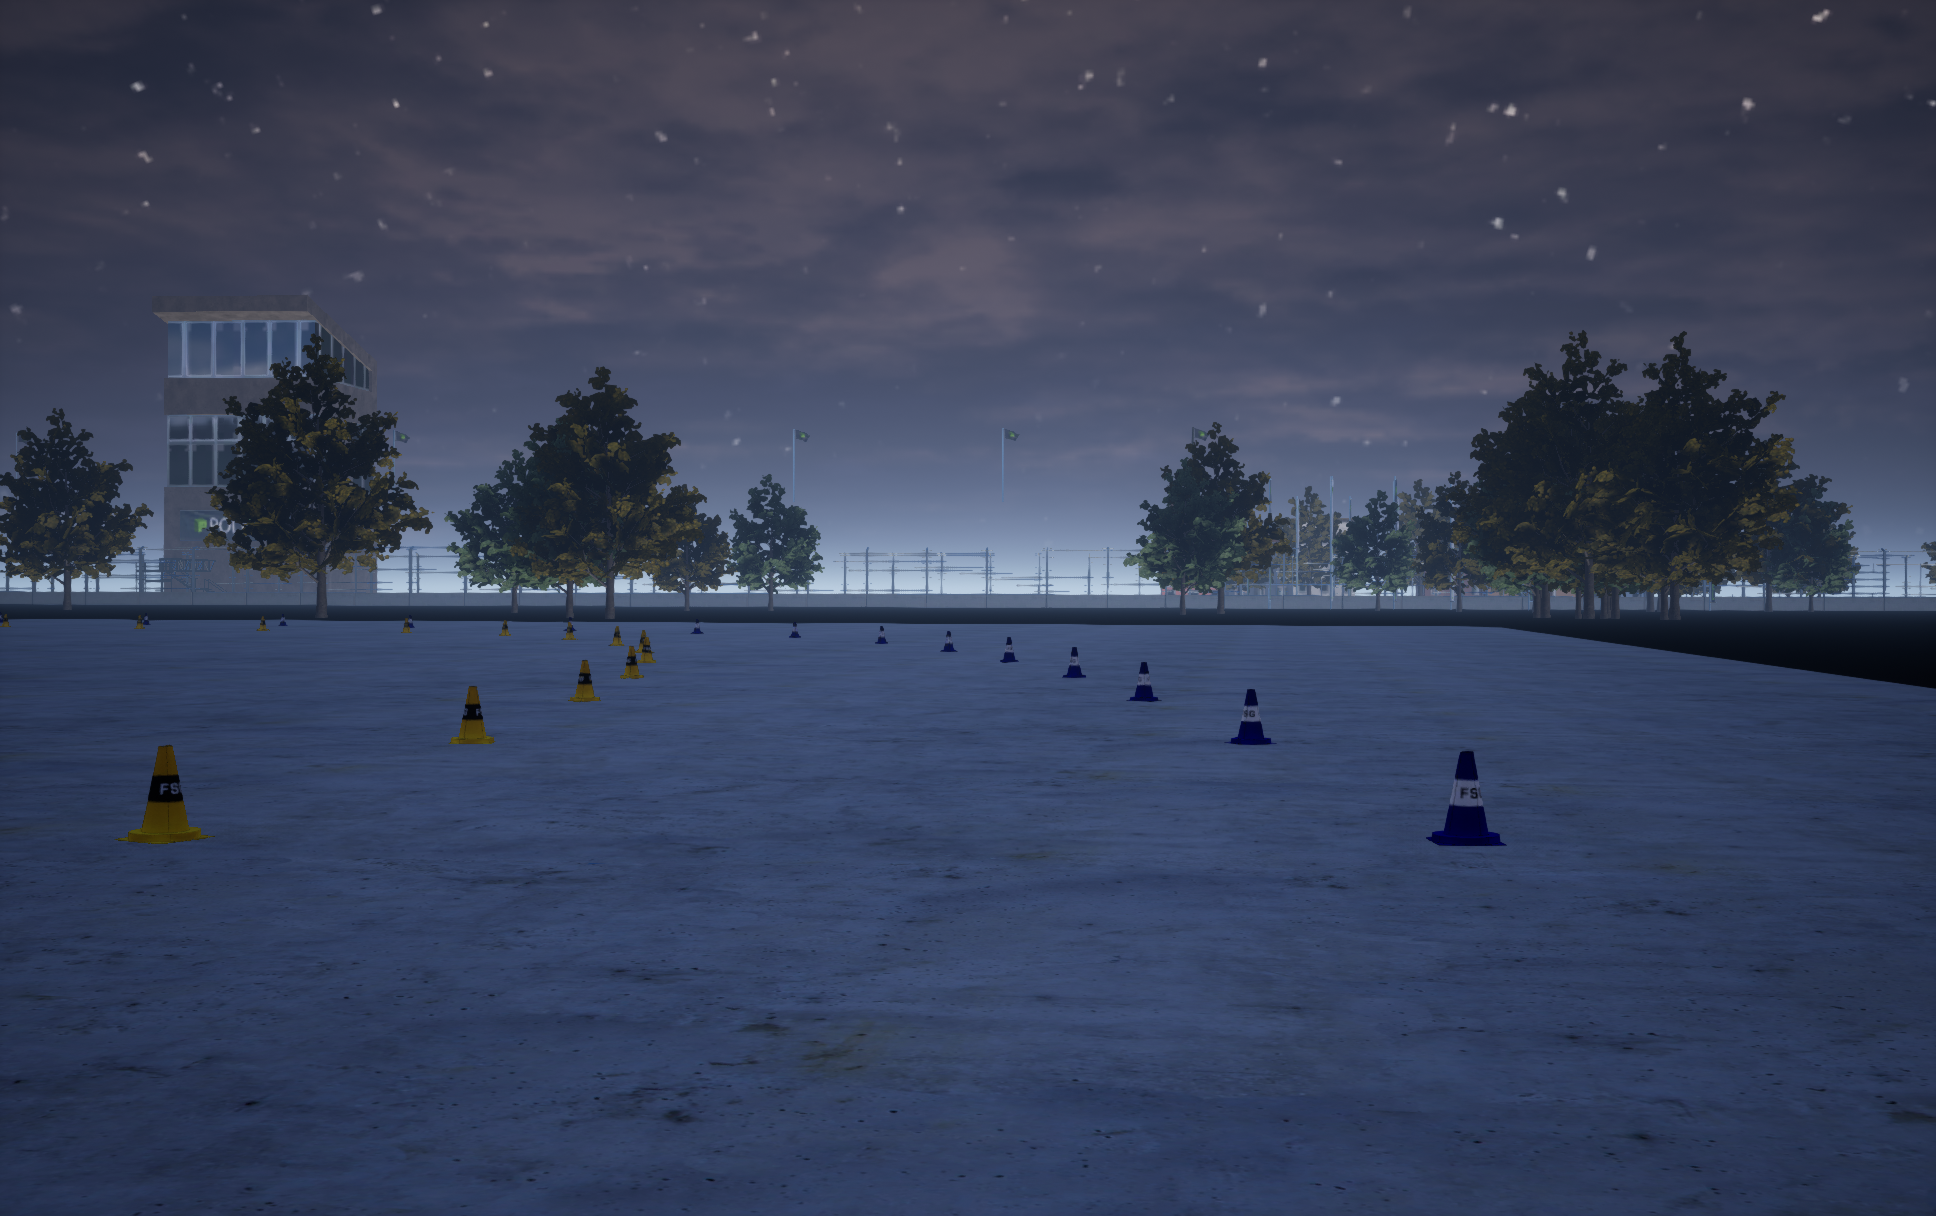blue: (113, 745, 214, 843), (448, 686, 495, 742), (567, 660, 600, 700), (621, 646, 643, 678), (637, 637, 656, 663), (635, 630, 654, 651), (608, 626, 623, 644)
yellow: (1426, 751, 1506, 845), (1224, 689, 1276, 744), (1126, 663, 1161, 700), (1062, 647, 1086, 677), (1000, 637, 1018, 663), (940, 630, 957, 651), (876, 626, 887, 643)
